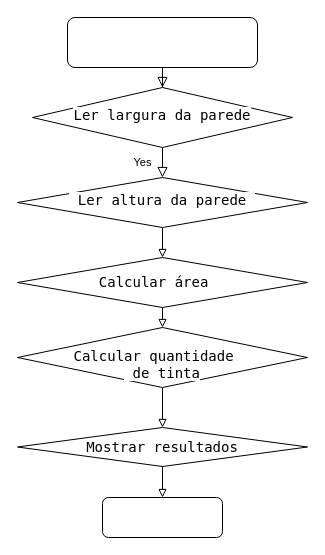
Image size: 325x555. Some labels were removed from this diagram. The centre of each missing label's shape, as x and y in pixels:
"Fim" belongs at [162,517].
"Início" belongs at [162,42].
